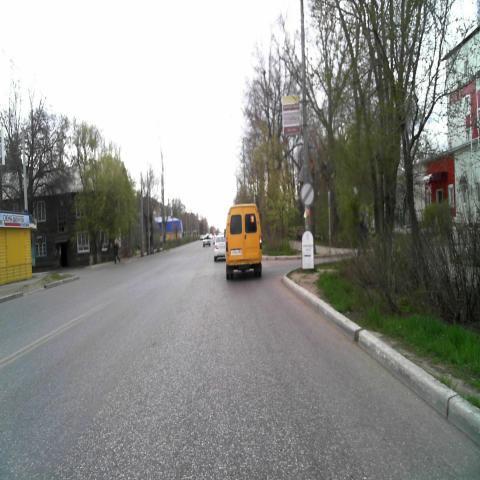3_31: (300, 181, 314, 206)
